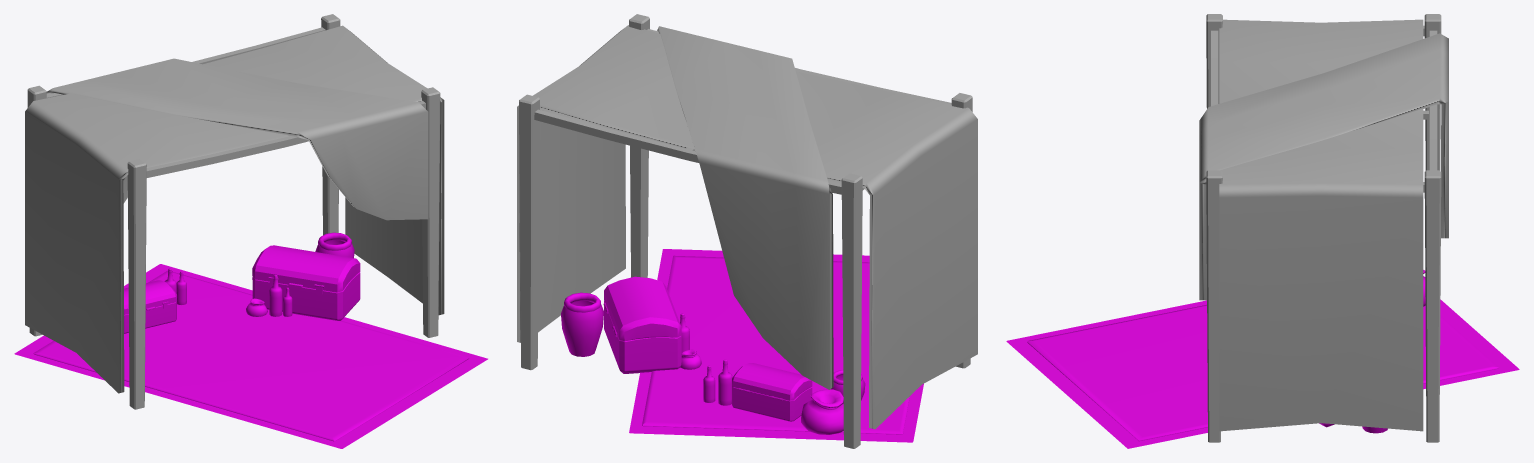
Rendered from Model_Props_CanopyTent.fbx.
3 renders of one model, left to right at view 1: azimuth 30°, elevation 25°; view 2: azimuth 150°, elevation 25°; view 3: azimuth 270°, elevation 25°, orthographic. The views are drawn at different scales.
Parts seen in each view (by area): view 1: Model_Props_CanopyTent; view 2: Model_Props_CanopyTent; view 3: Model_Props_CanopyTent.
Boxes of the visible parts, x1,y1,x2,y2 form: Model_Props_CanopyTent: (14, 14, 487, 448); Model_Props_CanopyTent: (517, 14, 977, 448); Model_Props_CanopyTent: (1006, 14, 1519, 448).
Bounding box in the file's own units: 4.18 × 2.78 × 4.86.
